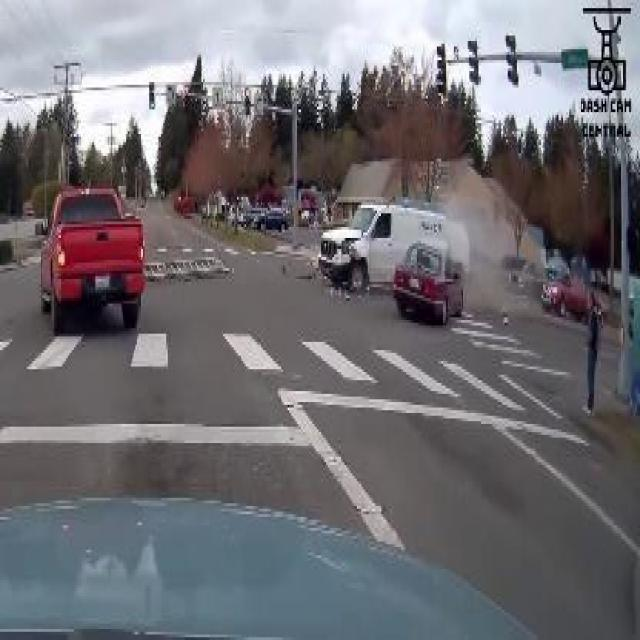accident: (316, 191, 472, 323)
